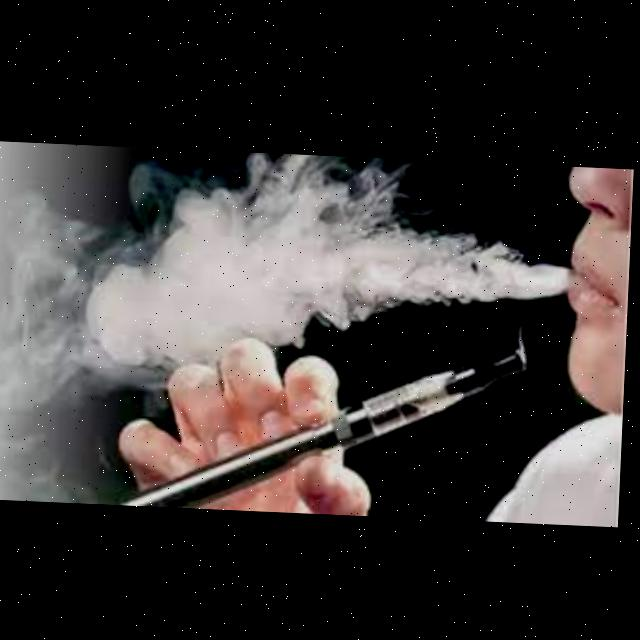vape: (124, 332, 528, 518)
